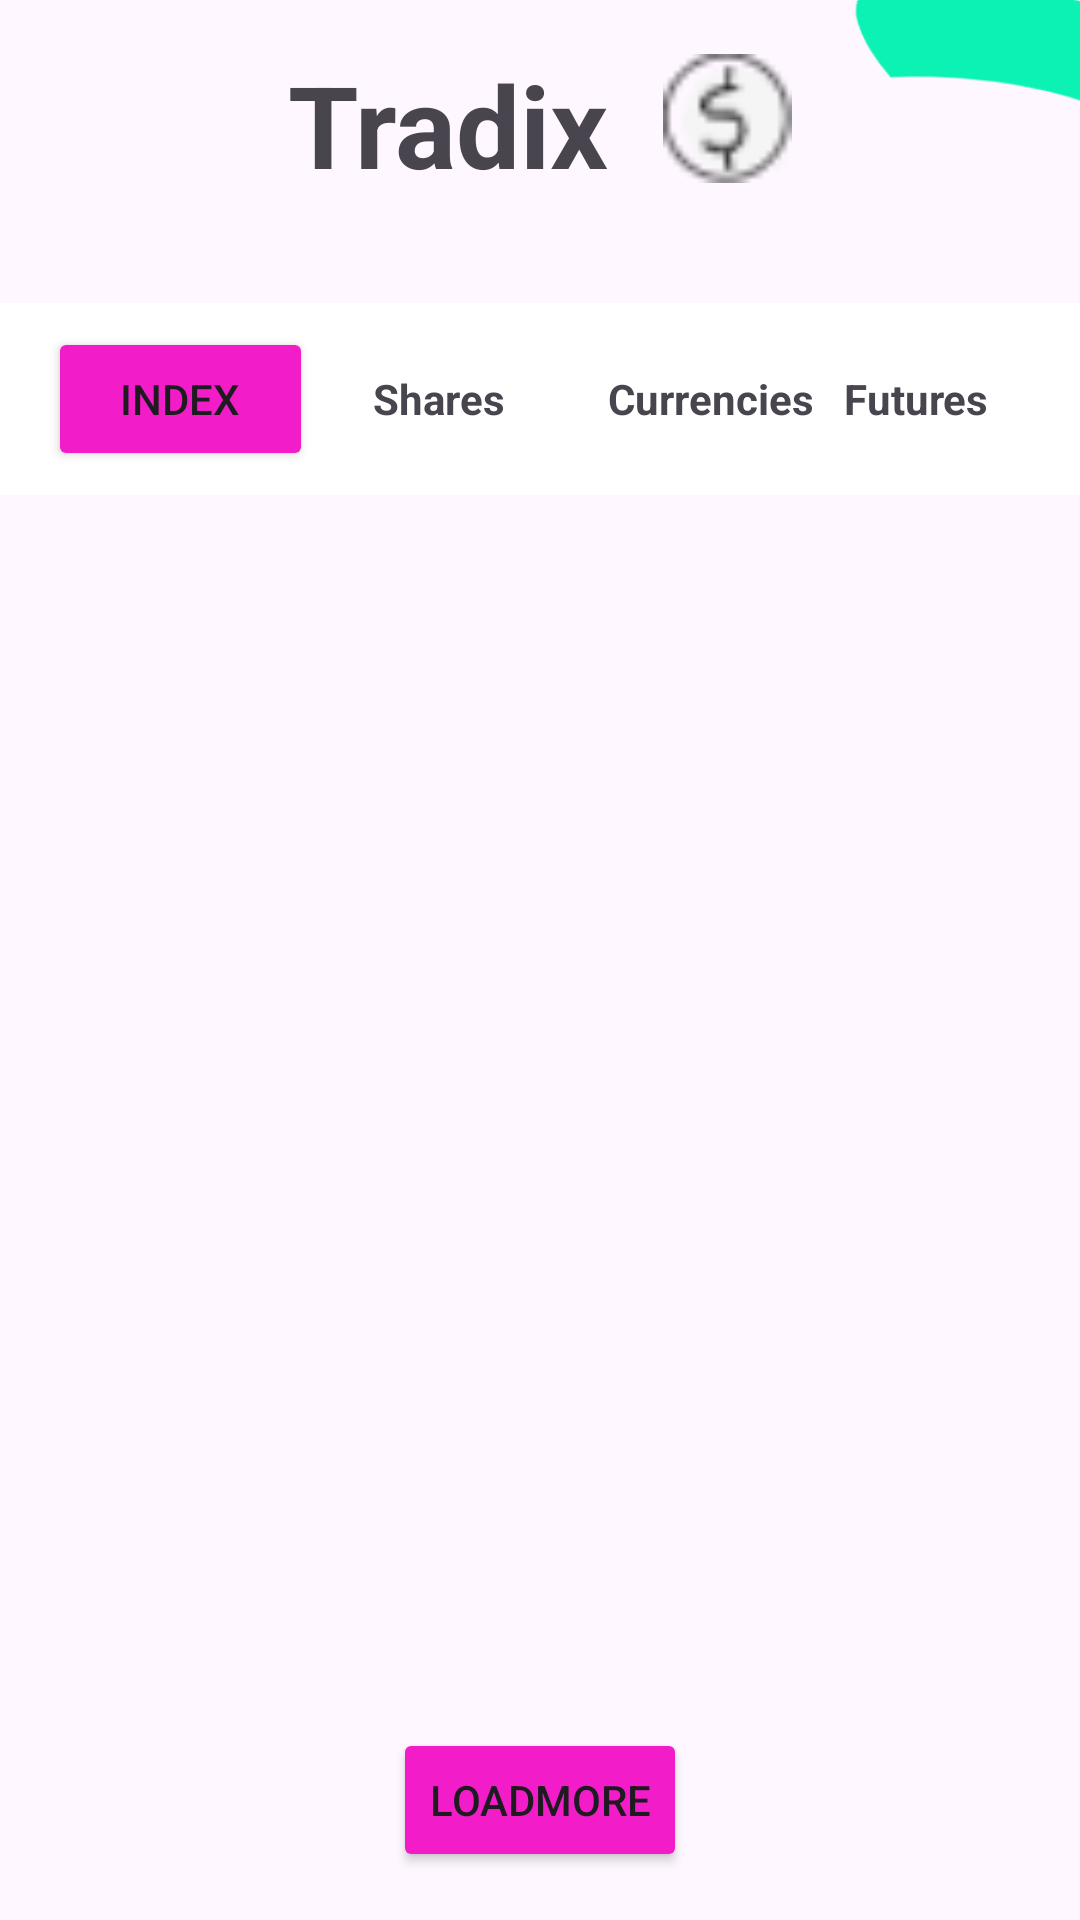

Icon click points for this 1080 x 1920 phone screenshot, format [x,y]:
Dollar Symbol: [727,118]
